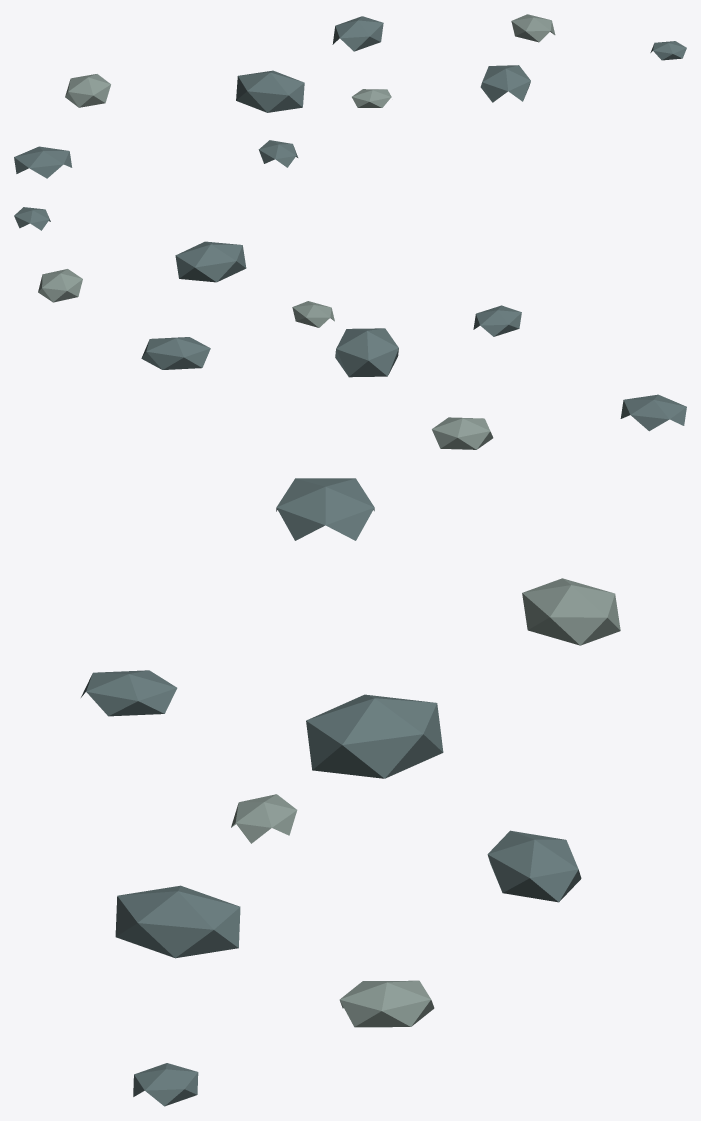
The model's file is bit_gravel.glb.
3 renders of one model, top to bottom at view 1: azimuth 30°, elevation 25°; view 2: azimuth 150°, elevation 25°; view 3: azimuth 270°, elevation 25°, orthographic. The views are drawn at different scales.
Parts seen in each view (by area): view 1: Rock_Mesh, RockLight_Mesh; view 2: Rock_Mesh, RockLight_Mesh; view 3: Rock_Mesh, RockLight_Mesh.
Part boxes in pixels (x1=…): Rock_Mesh: x1=14, y1=16, x2=686, y2=178; RockLight_Mesh: x1=65, y1=14, x2=555, y2=107; Rock_Mesh: x1=14, y1=207, x2=686, y2=431; RockLight_Mesh: x1=38, y1=269, x2=493, y2=449; Rock_Mesh: x1=81, y1=478, x2=581, y2=1106; RockLight_Mesh: x1=231, y1=578, x2=620, y2=1027.
Bounding box in the file's own units: 1.18 × 0.05 × 0.4397.
